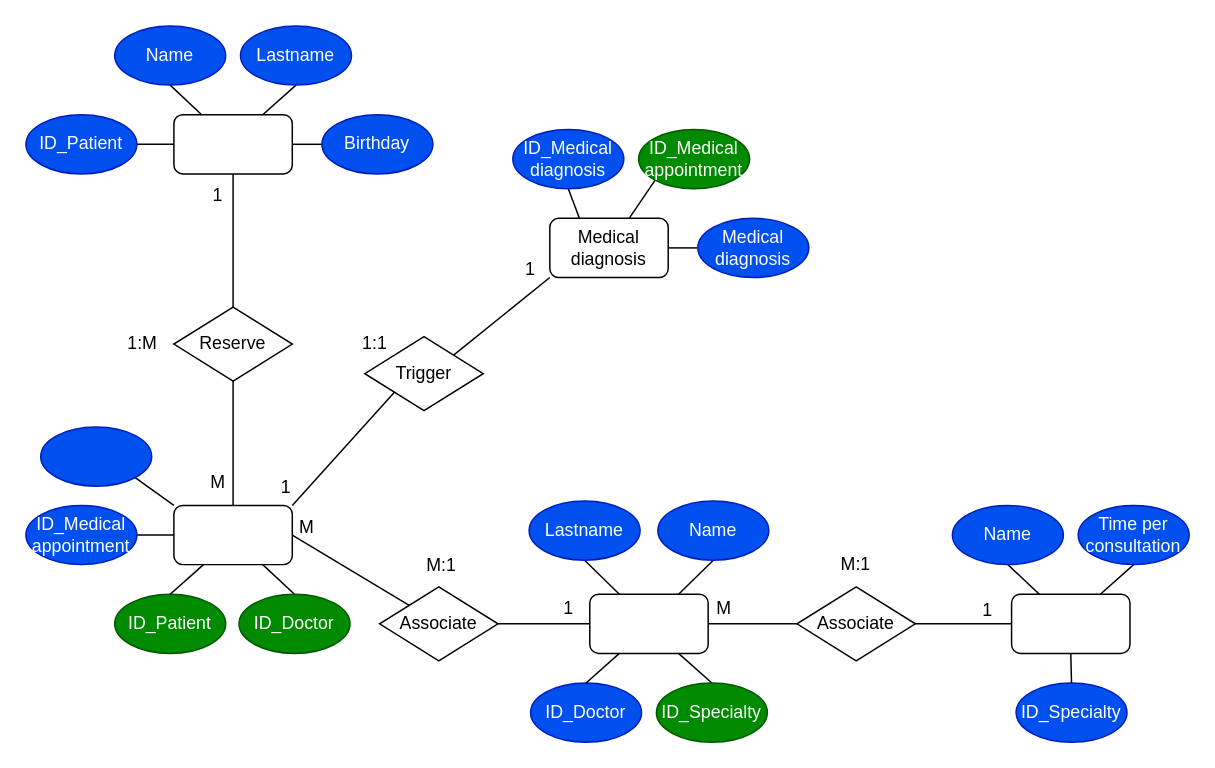
Image size: 1215x768. Some labels were removed from this diagram. Each missing label, with the centre of its shape:
"Doctor" goes at (648,623).
"Medical appointment" goes at (232,534).
"Medical appointment date" goes at (95,456).
"Patient" goes at (232,143).
"Specialty" goes at (1070,623).
